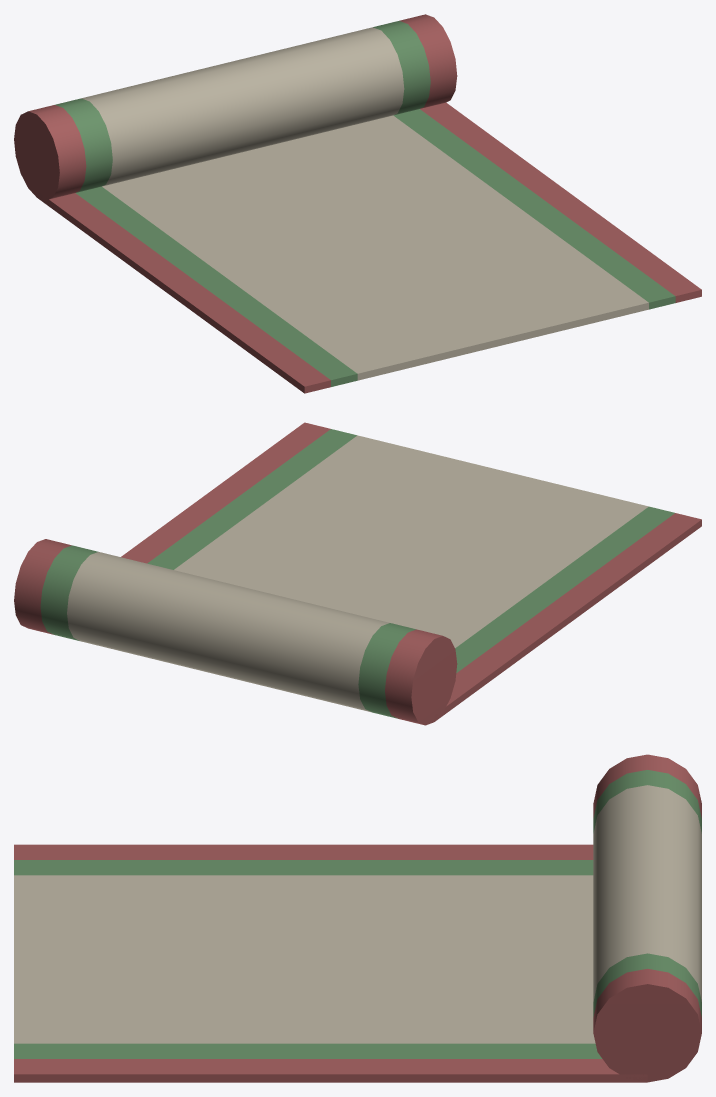
Rendered from kantel.glb.
The picture shows the model from 3 angles, top to bottom: view 1: azimuth 30°, elevation 25°; view 2: azimuth 150°, elevation 25°; view 3: azimuth 270°, elevation 25°; orthographic projection. The views are drawn at different scales.
Bounding box in the file's own units: 1.2 × 0.24 × 1.52.
